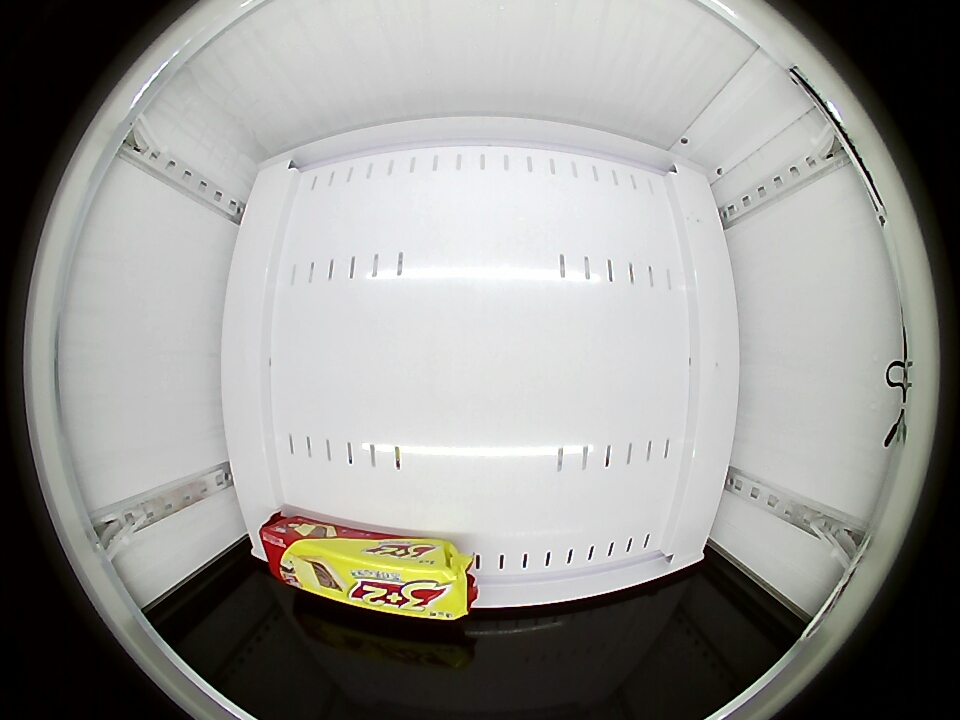3jia2: (264, 527, 470, 620)
